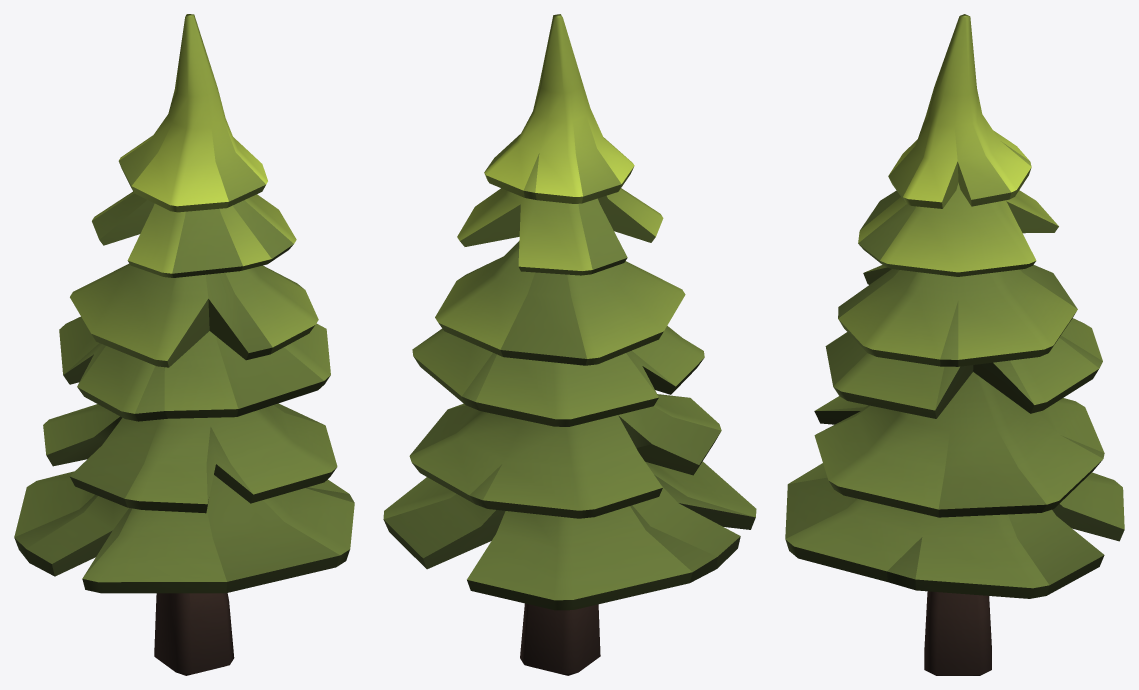
File: pine_tree_col1_07.fbx
The picture shows the model from 3 angles, left to right: view 1: azimuth 30°, elevation 25°; view 2: azimuth 150°, elevation 25°; view 3: azimuth 270°, elevation 25°; orthographic projection.
Parts seen in each view (by area): view 1: tree_pine_col1_07; view 2: tree_pine_col1_07; view 3: tree_pine_col1_07.
Boxes of the visible parts, <box> form: tree_pine_col1_07: <box>14,14,354,675</box>; tree_pine_col1_07: <box>383,14,756,675</box>; tree_pine_col1_07: <box>785,14,1124,675</box>.
Bounding box in the file's own units: 492 × 1012 × 479.
1 material, 1 textured.
